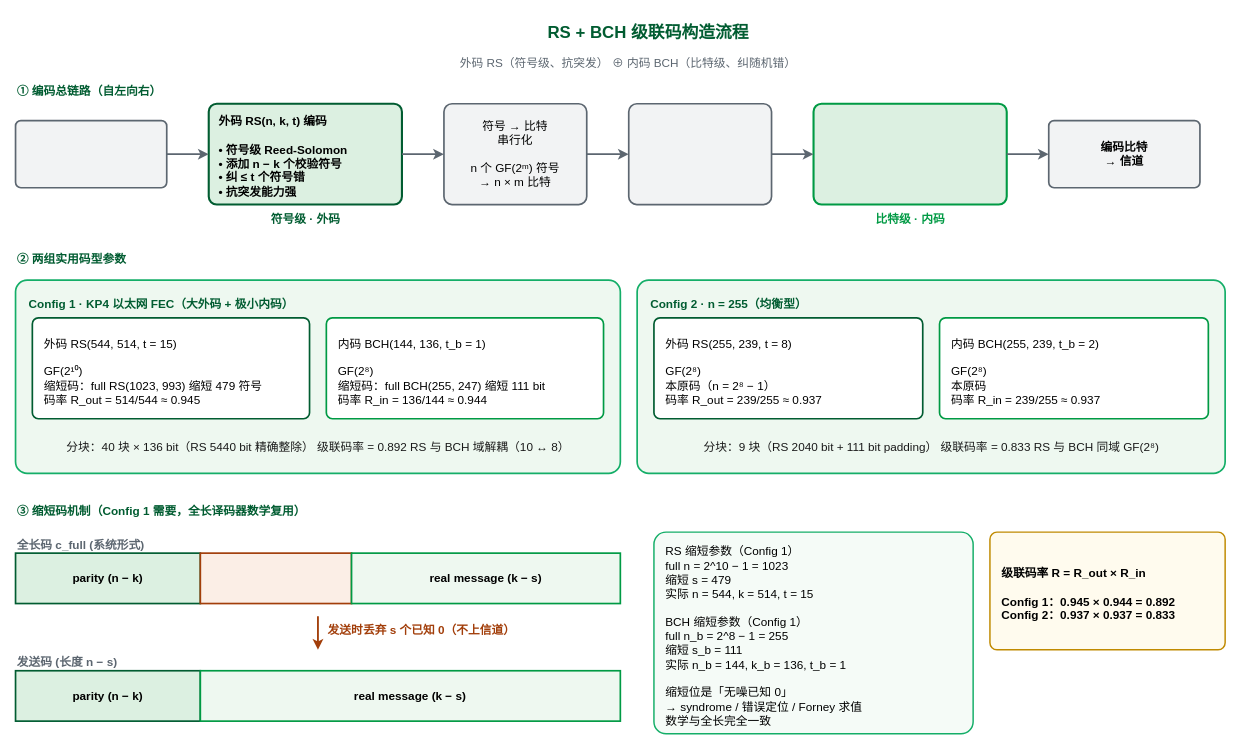
Image size: 1240x748. Some labels were removed from this diagram. Here are the shapes that lost their labels. From the top down, the centre of each, then its label:
At [90,153]: "信息符号 k 个 GF(2ᵐ) 符号".
At [699,153]: "分块 按内码信息长度 k_BCH 把比特流切成 N_blk 块".
At [909,153]: "内码 BCH(n_b, k_b, t_b) 编码 • 比特级 BCH • 每块补 n_b − k_b 校验比特 • 纠 ≤ t_b 个比特错 • 纠随机错".
At [275,578]: "0 0 0 … 0 s 个已知 0 （缩短位）".
